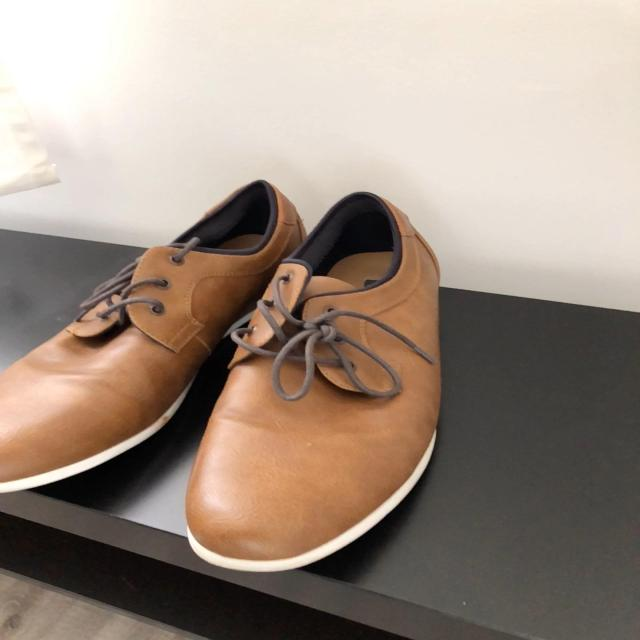shoe: (185, 193, 442, 574), (0, 173, 298, 496)
